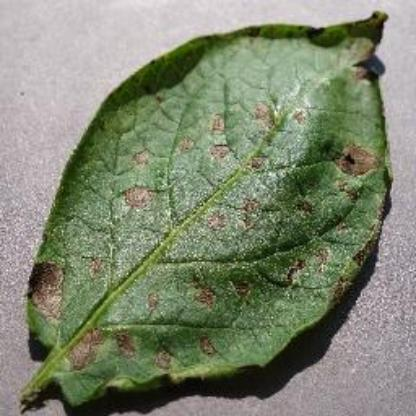Early-Blight: (17, 2, 416, 414)
